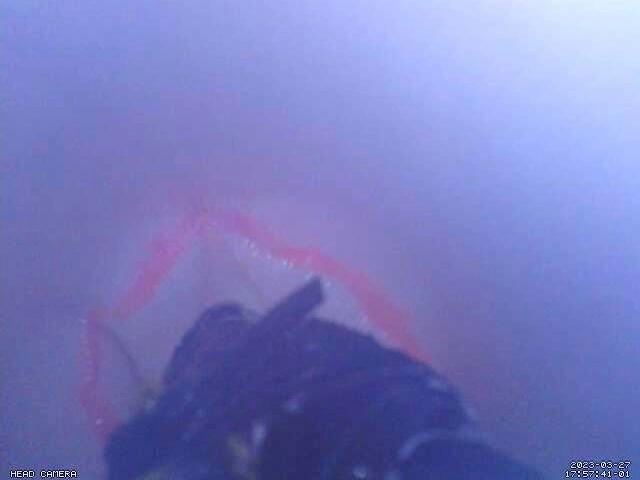head: (77, 206, 435, 441)
